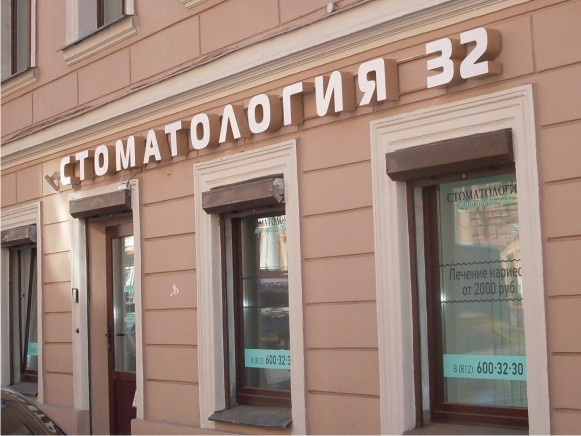door: (104, 223, 137, 436)
signboard: (57, 25, 502, 189)
window: (431, 164, 529, 421), (236, 211, 291, 406)
